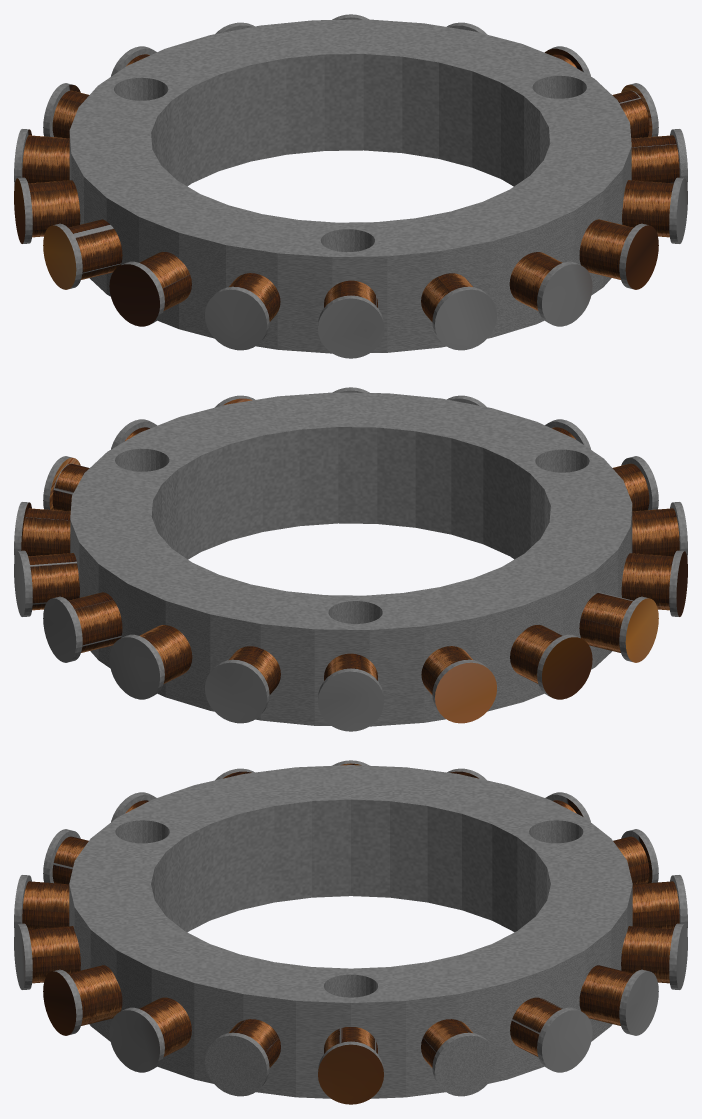
File: tikitown_stators.fbx
The picture shows the model from 3 angles, top to bottom: view 1: azimuth 30°, elevation 25°; view 2: azimuth 150°, elevation 25°; view 3: azimuth 270°, elevation 25°; orthographic projection.
Visible parts, largest first — view 1: Cylinder.010; view 2: Cylinder.010; view 3: Cylinder.010.
Part boxes in pixels (left/top/right/bottom): Cylinder.010: left=14, top=14, right=687, bottom=358; Cylinder.010: left=14, top=387, right=687, bottom=731; Cylinder.010: left=14, top=760, right=687, bottom=1104.
Bounding box in the file's own units: 0.7163 × 0.1134 × 0.7177.
